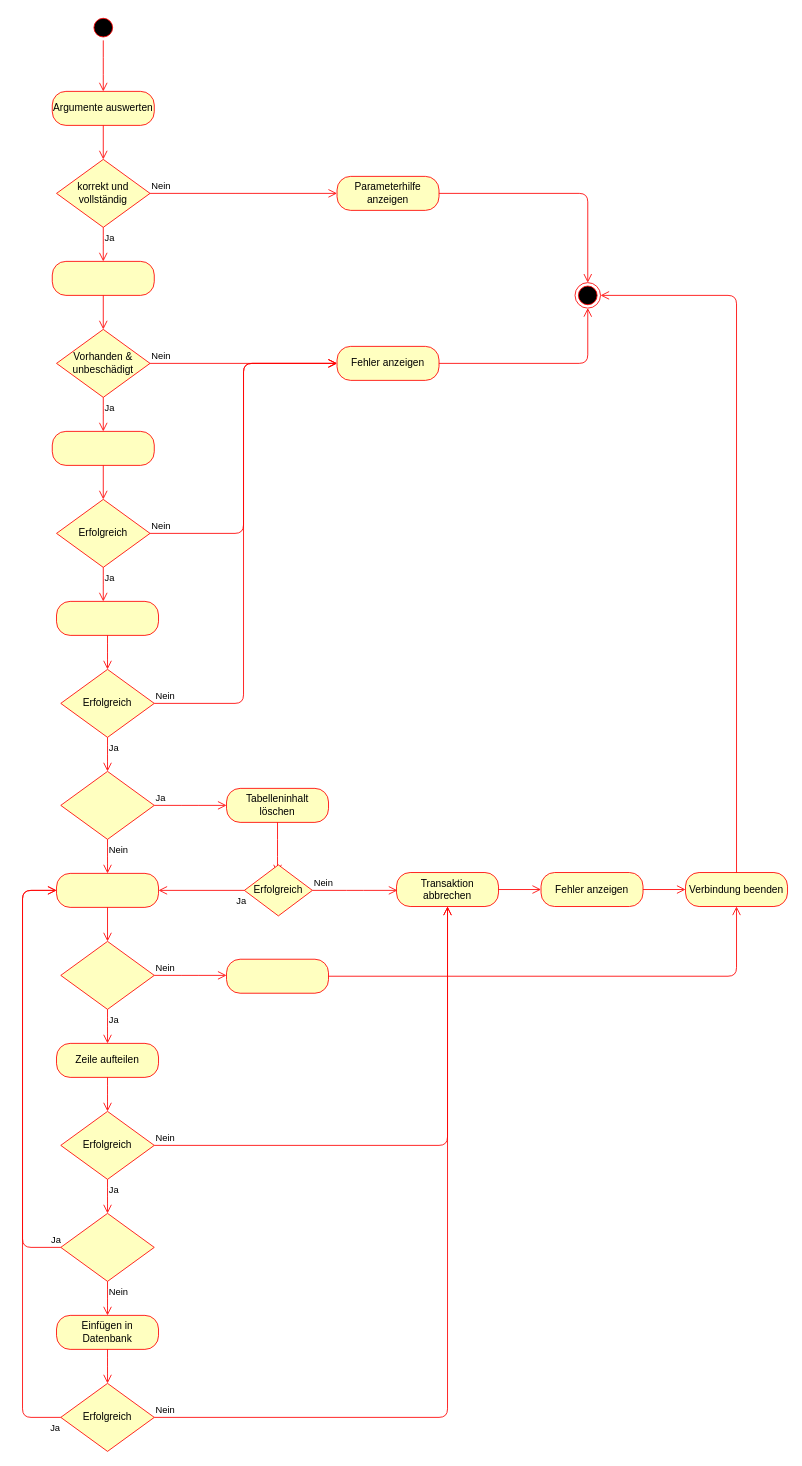
This 802x1466 diagram has some shape labels left out. The centre of each missing label's shape, as x and y in pixels:
Datei prüfen: the point at 102,278
del-Argument vorhanden: the point at 107,805
Ende der Datei: the point at 107,975
Transaktion abschließen: the point at 277,975
Transaktion beginnen: the point at 107,618
Verbindung aufbauen: the point at 102,448
Vorhanden: the point at 107,1247
Zeile einlesen: the point at 107,890
